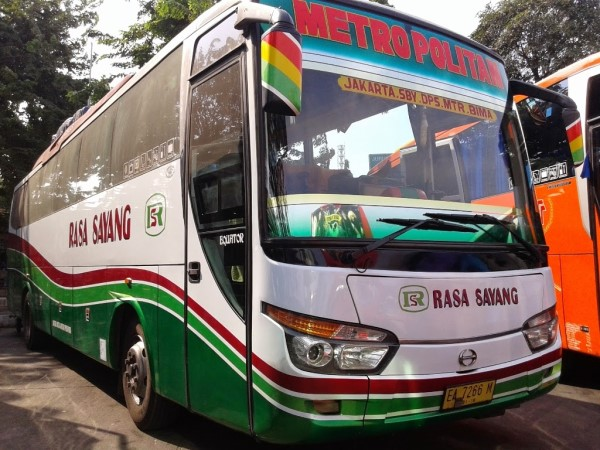plate: (445, 378, 497, 412)
